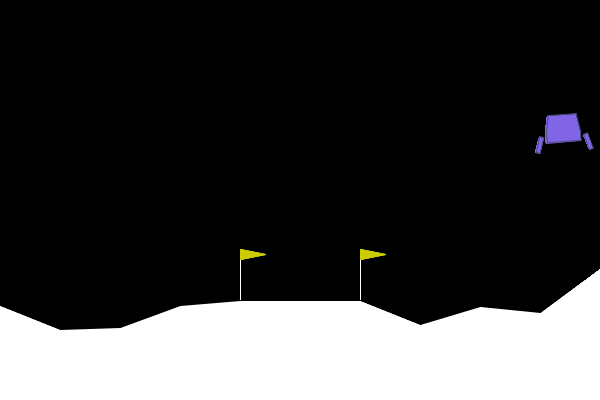lander: (532, 111, 594, 155)
